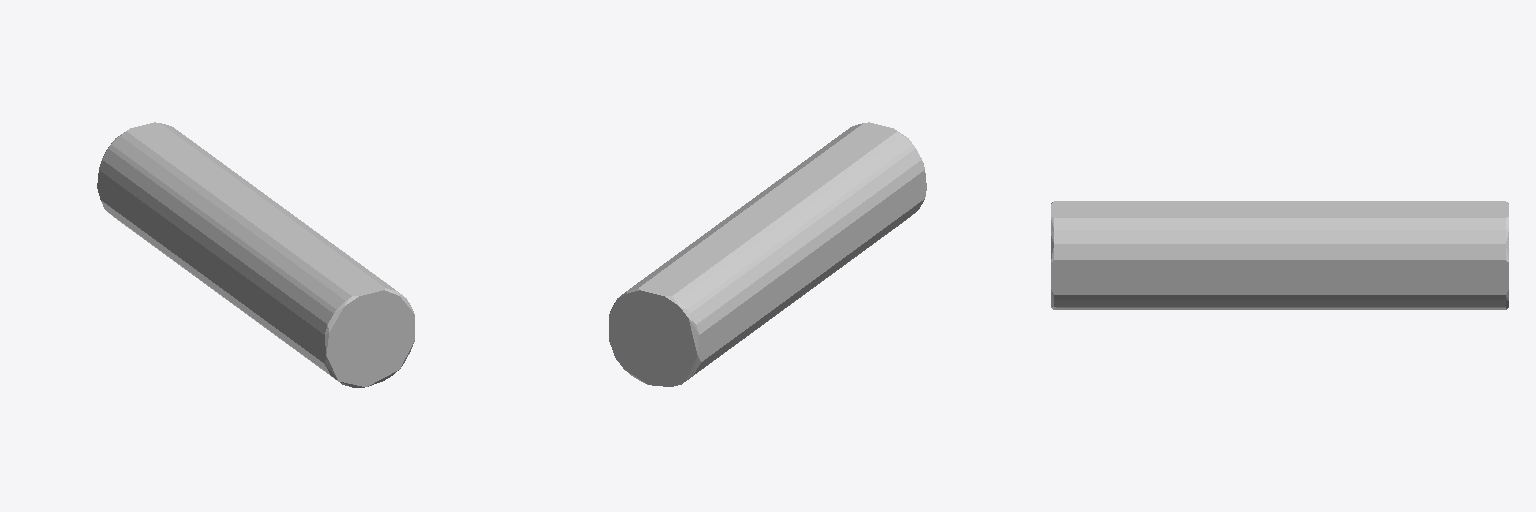
The model's file is cylinder_long.obj.
3 views of the same model, side by side, from view 1: azimuth 30°, elevation 25°; view 2: azimuth 150°, elevation 25°; view 3: azimuth 270°, elevation 25° (orthographic).
Parts seen in each view (by area): view 1: convex_0; view 2: convex_0; view 3: convex_0.
Part boxes in pixels (left/top/right/bottom): convex_0: left=97, top=122, right=414, bottom=387; convex_0: left=609, top=122, right=926, bottom=386; convex_0: left=1051, top=201, right=1508, bottom=309.
Size of the model in its own units: 14.28 by 14.28 by 63.99.